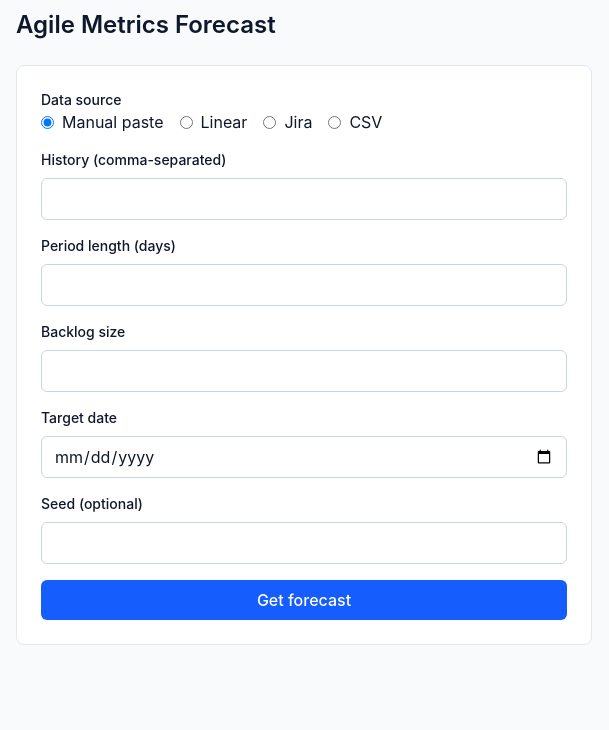
App - User Story 3 (errors and loading) › renders the server's error message on the page instead of crashing
Type "3,5,4,6,2,5,4,3" into the field labelled "History (comma-separated)". click: (304, 199)
box: x1=41 y1=178 x2=567 y2=220
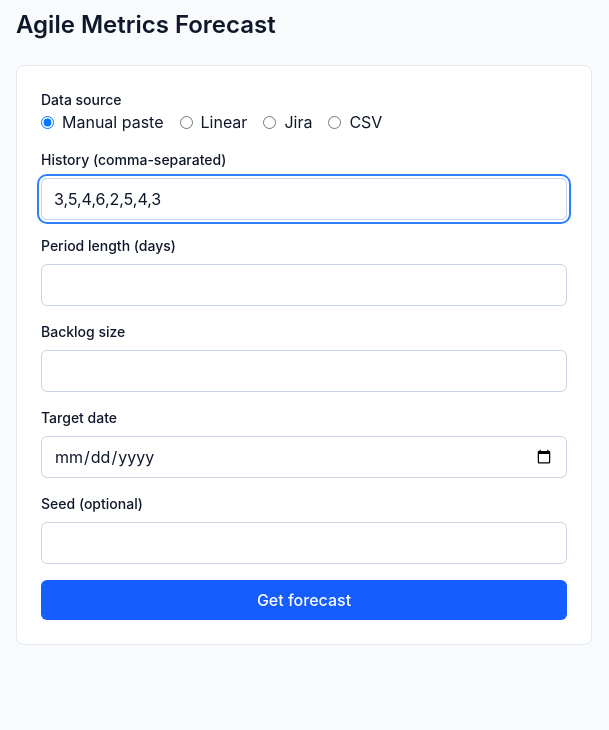
Type "7" into the field labelled "Period length (days)". click: (304, 285)
box: x1=41 y1=264 x2=567 y2=306
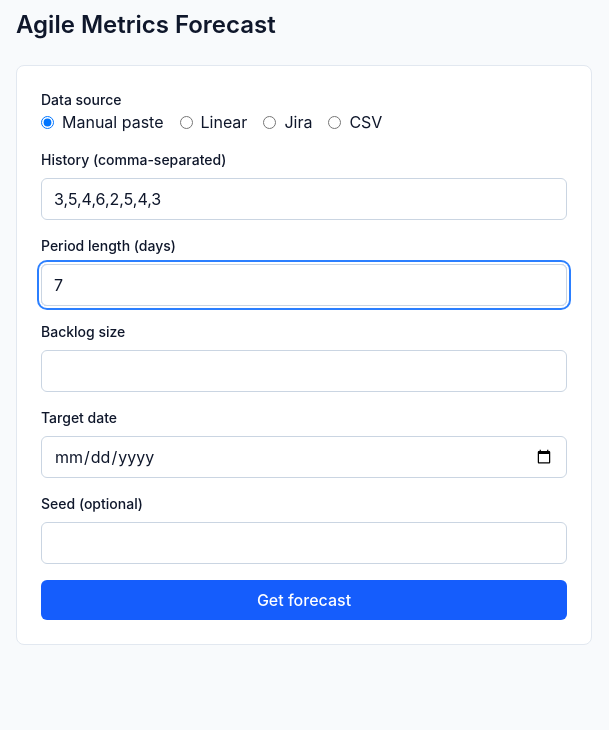
Type "20" into the field labelled "Backlog size". click: (304, 371)
box: x1=41 y1=350 x2=567 y2=392
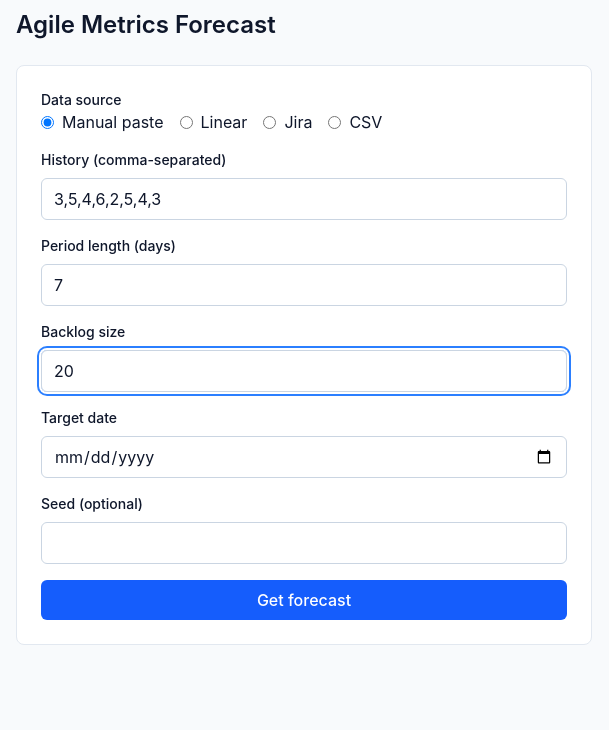
Click the button "Get forecast". click: (304, 600)
box: x1=41 y1=580 x2=567 y2=620
(page scrolled)
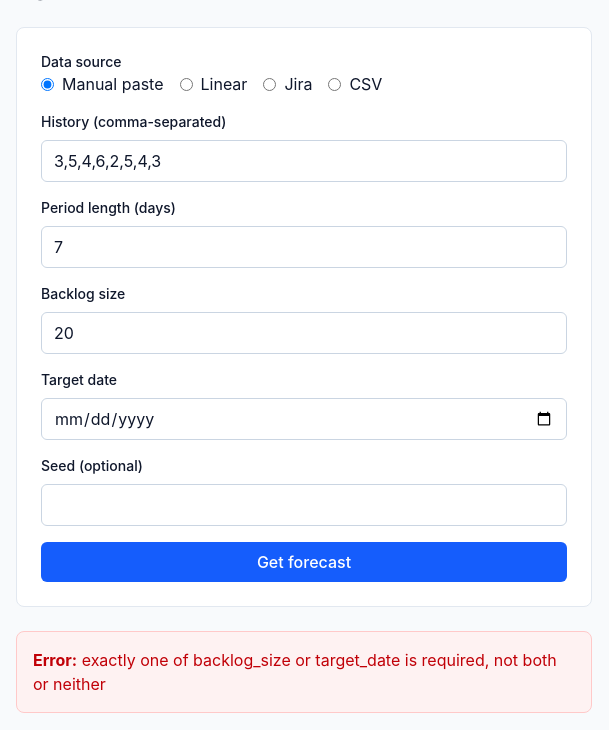
Expected: the text "exactly one of backlog_size or target_date" is shown, x1=33 y1=650 x2=557 y2=694
